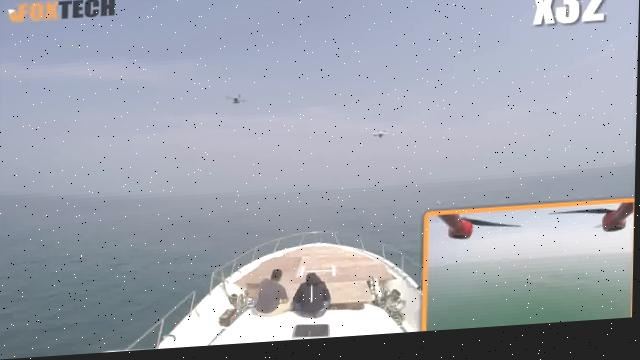drone: (221, 92, 245, 120), (369, 128, 389, 154)
